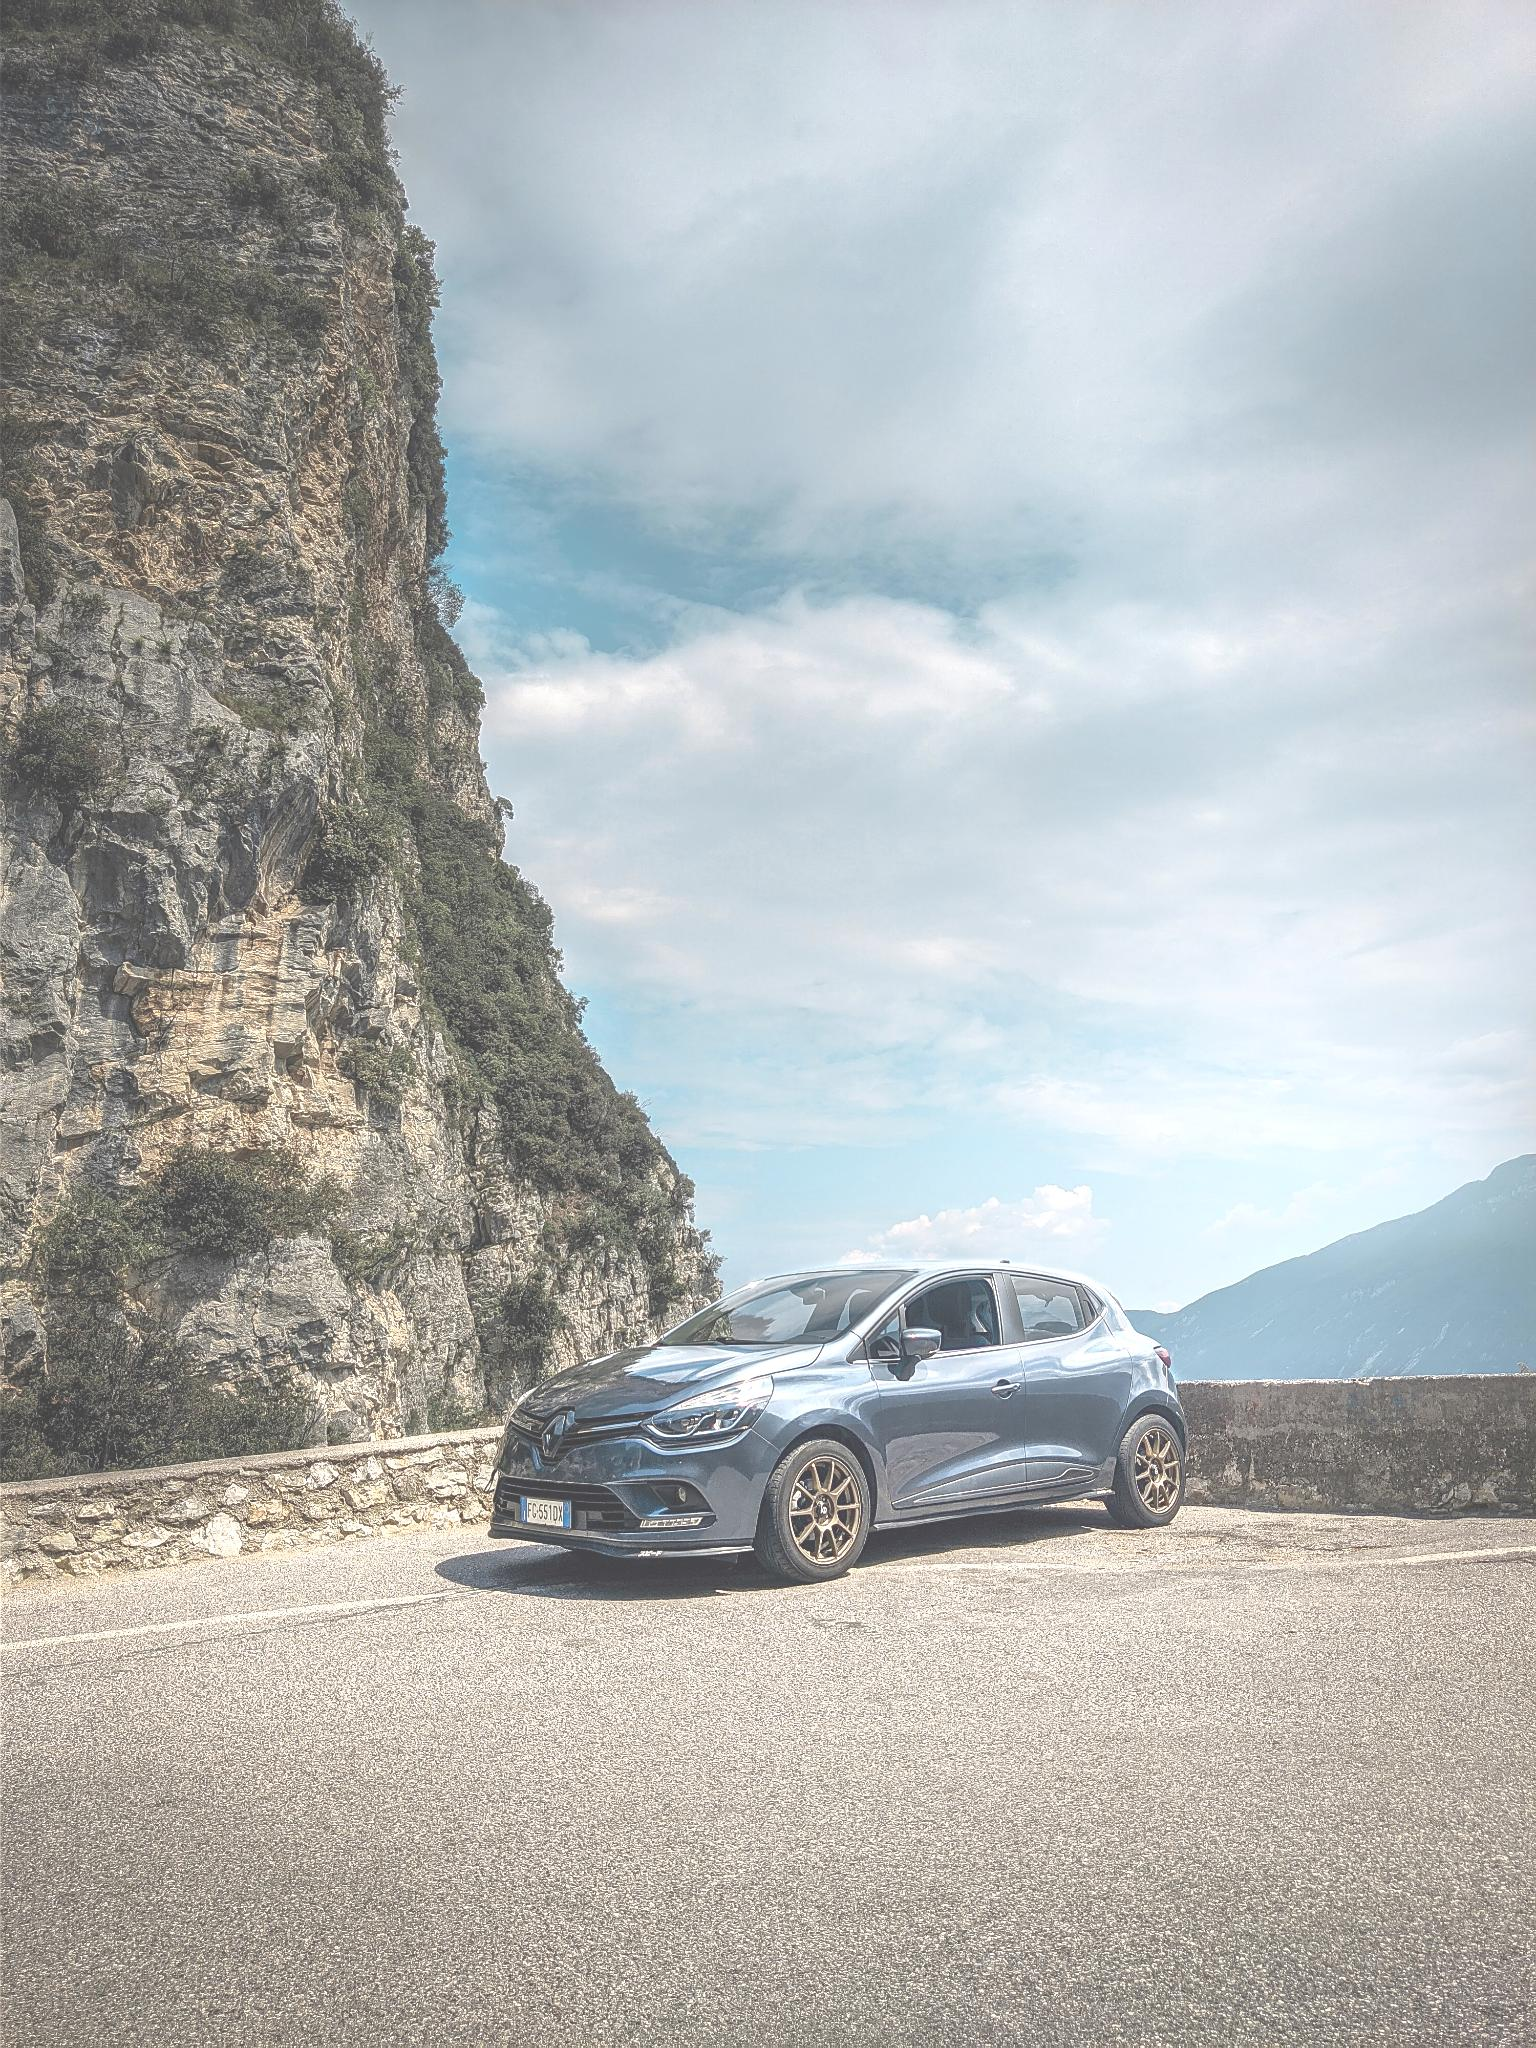Renault: (529, 1400, 587, 1472)
